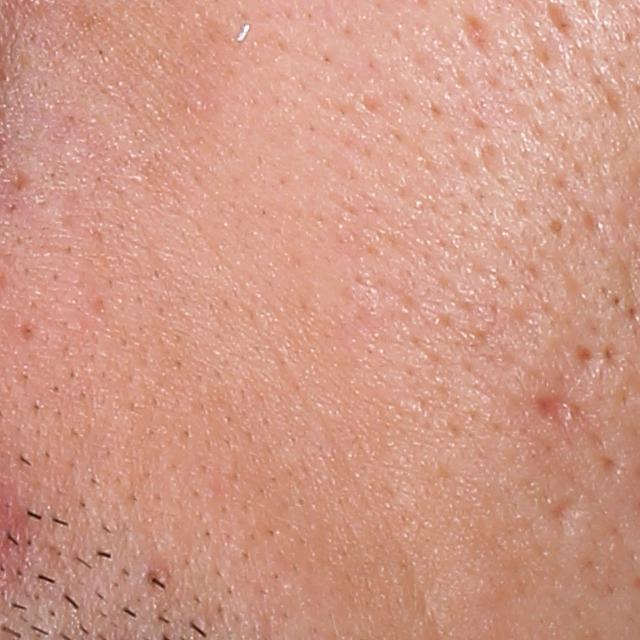atrophic_scar: (528, 391, 580, 433), (459, 14, 495, 64), (542, 489, 580, 535), (596, 446, 633, 481), (572, 342, 598, 367)
comedo: (544, 211, 574, 240), (610, 293, 624, 311)
